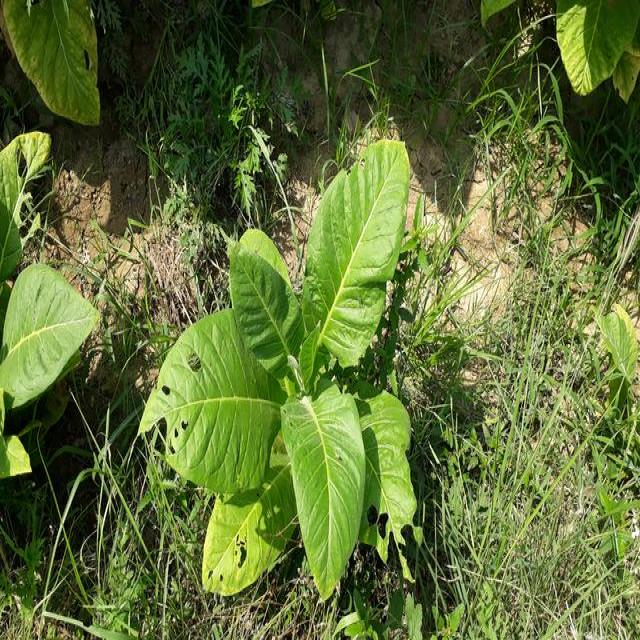crop: (143, 140, 424, 588), (0, 133, 97, 477), (22, 0, 105, 125), (554, 0, 639, 103)
